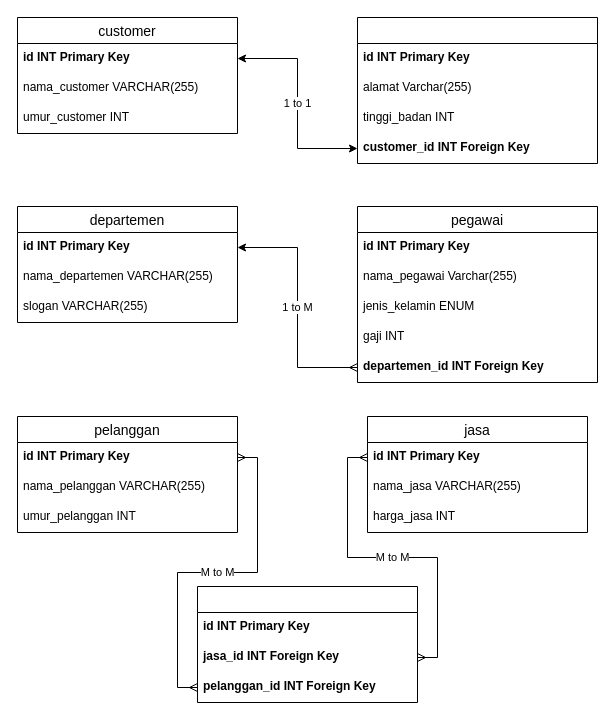
Some shapes in this 615 by 723 pixel diagram are drawn without their labels. Each missing label, with the box of its shape:
detail: (356, 16, 598, 164)
langganan: (196, 586, 418, 702)
